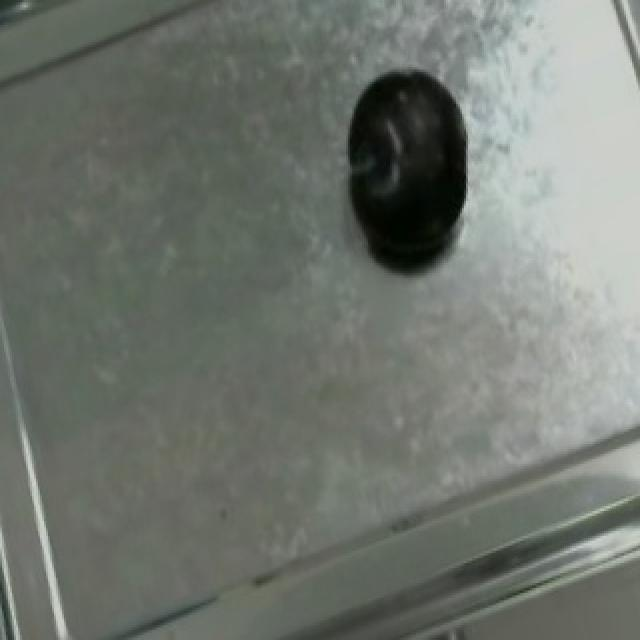Fruit: (330, 57, 490, 283)
